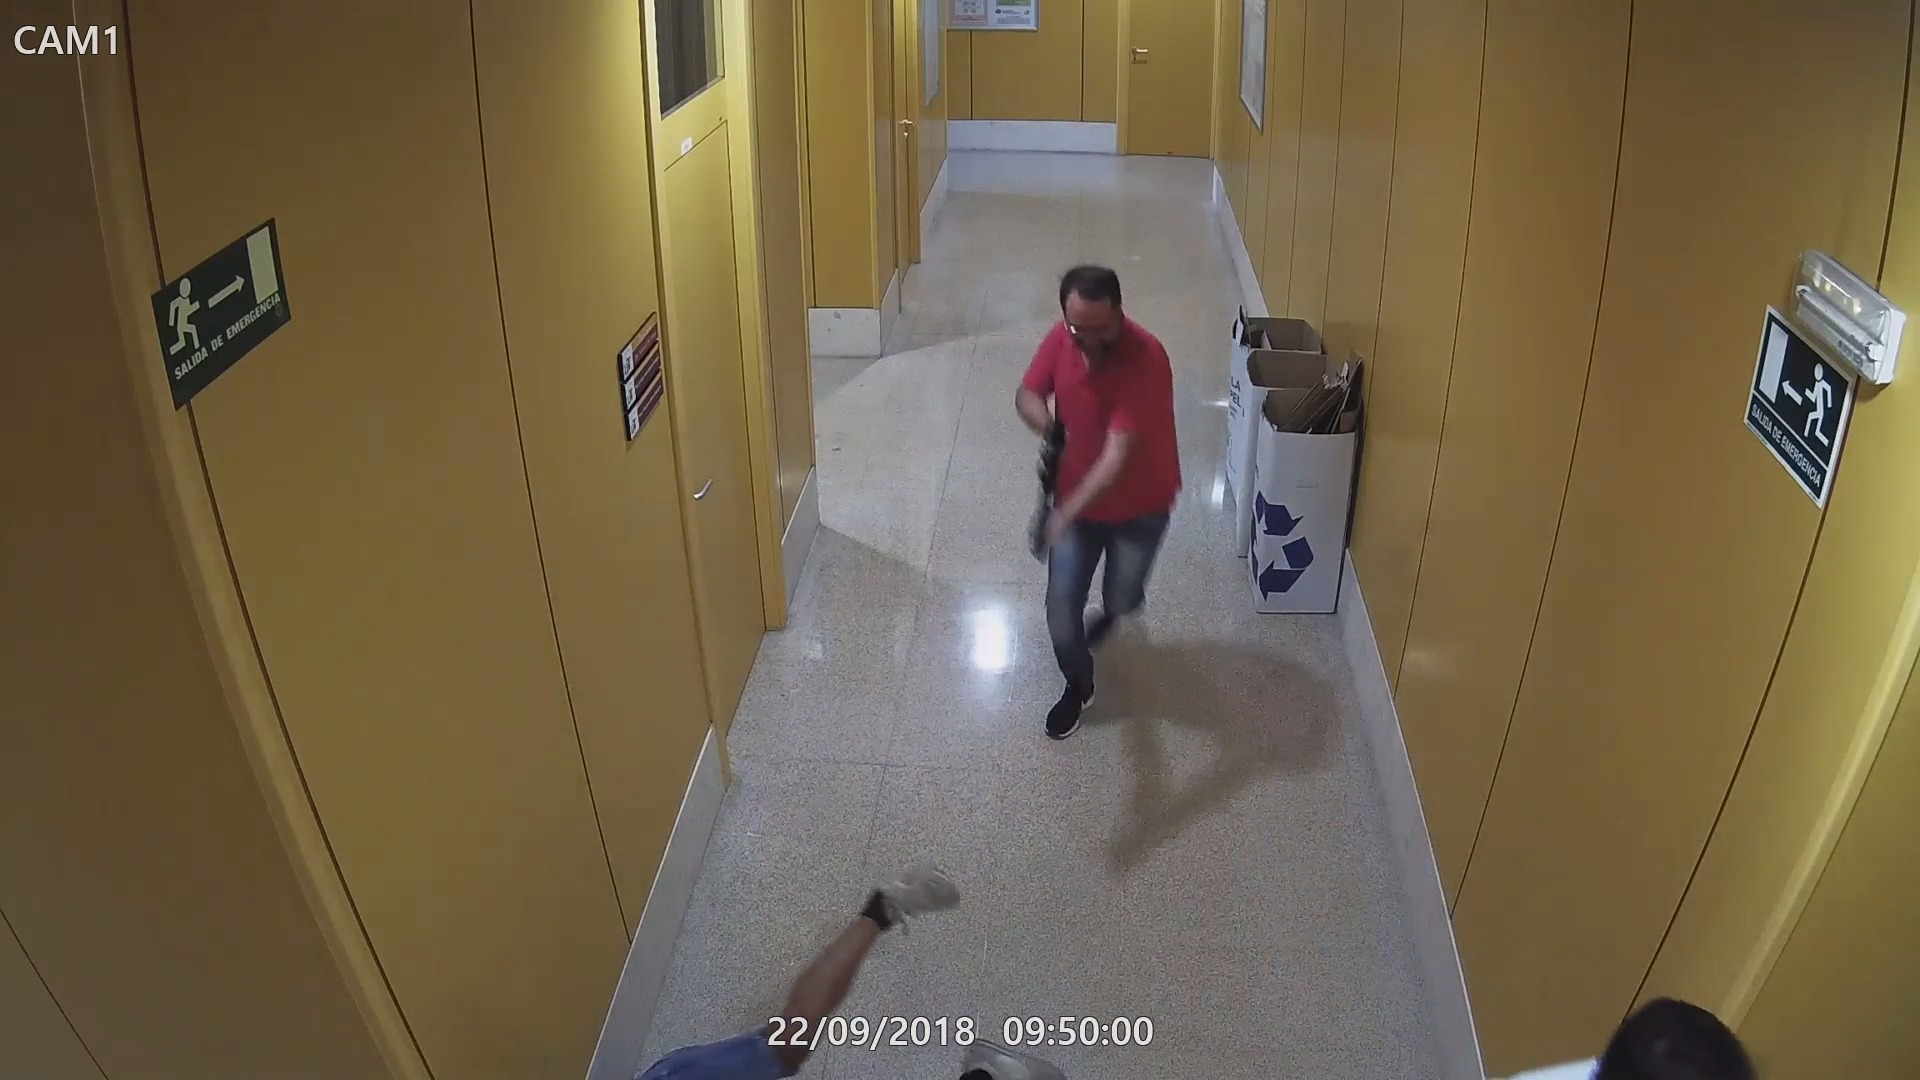Short_rifle: (1026, 411, 1072, 563)
